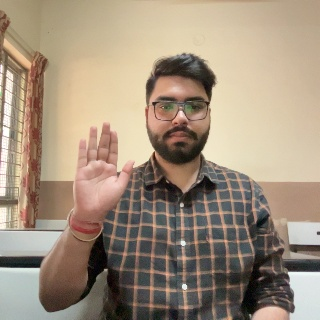Face: (144, 55, 213, 164)
Hello: (72, 123, 135, 219)
